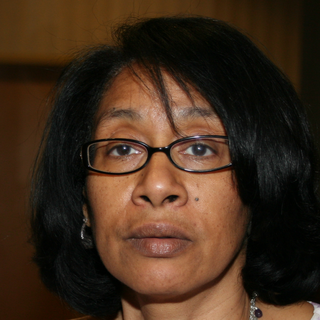eye: (100, 138, 145, 162), (174, 140, 219, 161)
